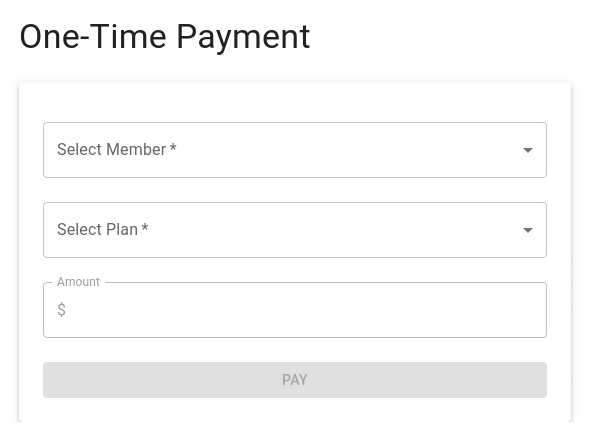
Test: PaymentPage › displays membership plan select dropdown with correct options
expect the heading "One-Time Payment" is shown: met, box [19, 16, 311, 56]
Click the dropdown named "select plan" next to "Select Plan" at point(295, 230), box [43, 202, 547, 258]
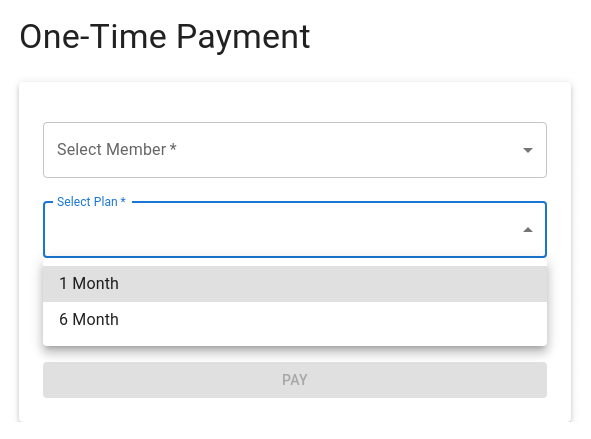
expect the option "1 Month" is shown: met, box [43, 266, 547, 302]
expect the option "6 Month" is shown: met, box [59, 310, 119, 329]
